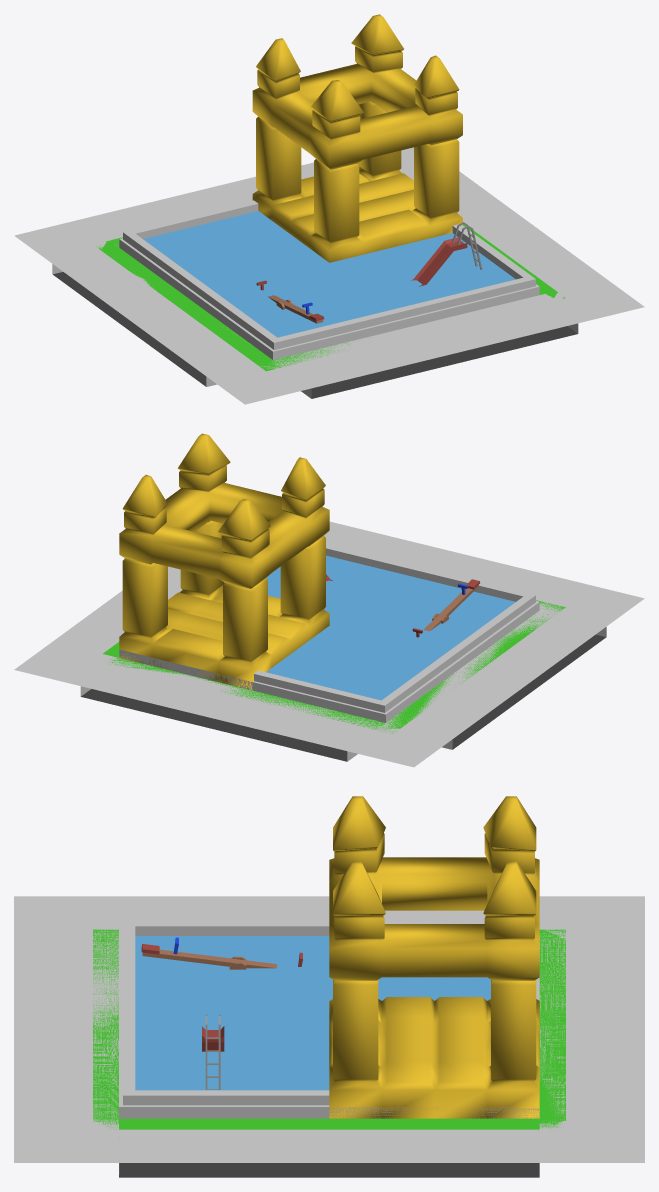
File: blocks.fbx
3 views of the same model, one above another, from view 1: azimuth 30°, elevation 25°; view 2: azimuth 150°, elevation 25°; view 3: azimuth 270°, elevation 25° (orthographic). The views are drawn at different scales.
Visible parts, largest first — view 1: recto.007, recto.006, curva, recto, cruce, bif; view 2: recto.007, recto.006, curva, recto, cruce, bif; view 3: recto.007, recto.006, recto, curva, cruce, bif.
Boxes of the visible parts, box(x1,y1,x2,y2) form: recto.007: box(14, 14, 643, 404); recto.006: box(119, 200, 539, 360); curva: box(15, 148, 643, 404); recto: box(17, 148, 642, 403); cruce: box(16, 151, 642, 403); bif: box(52, 226, 104, 282); recto.007: box(15, 433, 643, 766); recto.006: box(113, 544, 539, 722); curva: box(17, 523, 644, 766); recto: box(16, 523, 642, 765); cruce: box(14, 595, 612, 766); bif: box(80, 687, 483, 761); recto.007: box(14, 796, 644, 1162); recto.006: box(119, 921, 565, 1128); recto: box(14, 896, 644, 1177); curva: box(14, 896, 644, 1162); cruce: box(14, 899, 644, 1177); bif: box(509, 898, 641, 1176).
Size of the model in its own units: 2 by 0.9007 by 2.
